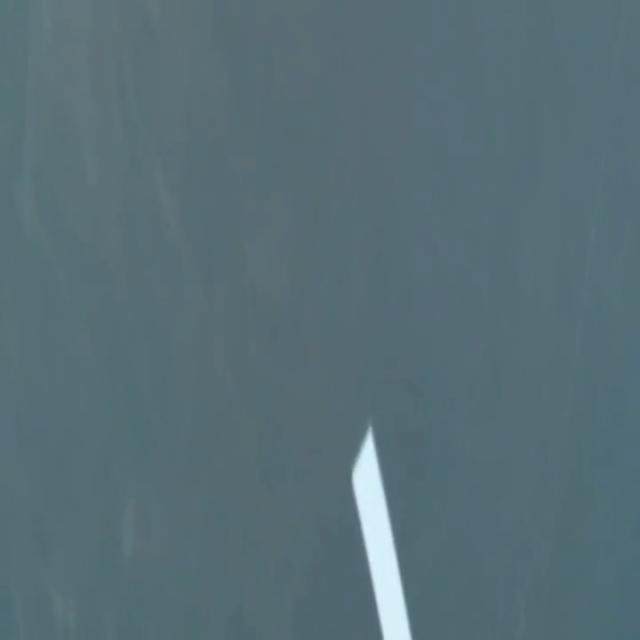center: (353, 425, 412, 639)
